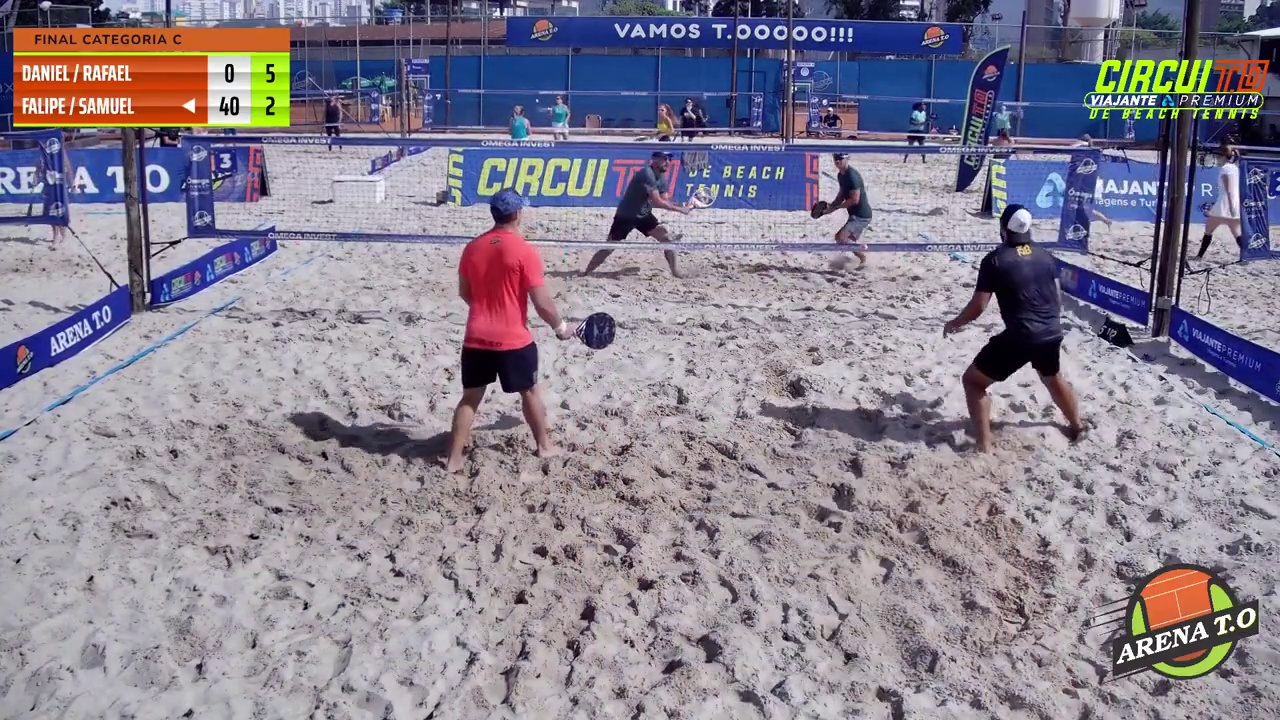court_line: (652, 0, 818, 397)
